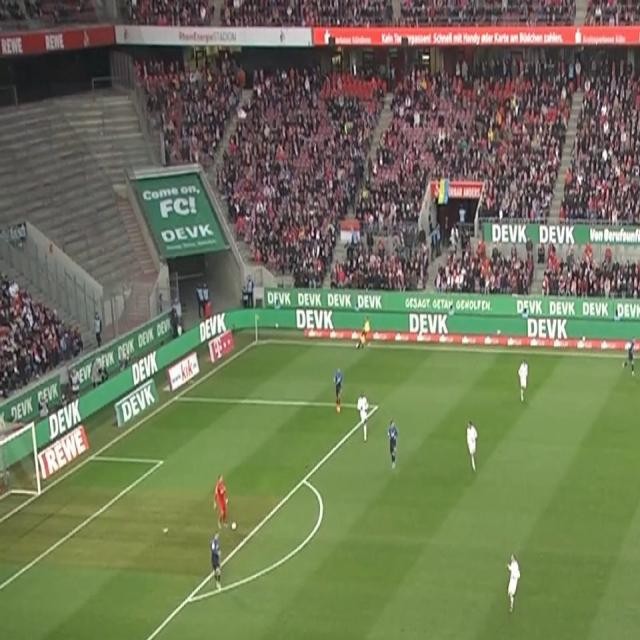ball: (231, 521, 237, 531)
